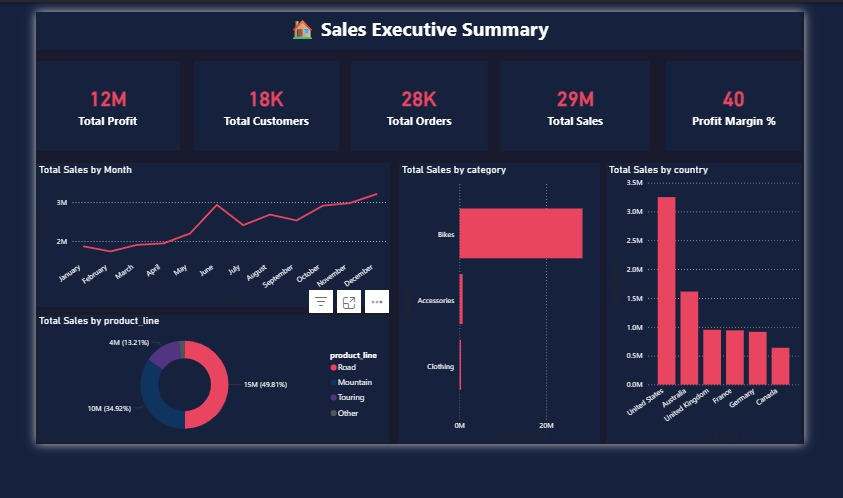

The dashboard page shown, as its layout file describes it:
{"tool":"powerbi","page":{"name":"Sales","canvas":[1280,720],"ordinal":0},"visuals":[{"type":"advanceCardE03760C5AB684758B56AA29F9E6C257B","fields":{"mainMeasure":["fact_sales.Total Sales"]},"box":[775,81.7,248.3,150],"z":0},{"type":"advanceCardE03760C5AB684758B56AA29F9E6C257B","fields":{"mainMeasure":["fact_sales.Total Orders"]},"box":[525,81.7,228.3,150],"z":1000},{"type":"advanceCardE03760C5AB684758B56AA29F9E6C257B","fields":{"mainMeasure":["fact_sales.Total Customers"]},"box":[263.3,81.7,241.7,150],"z":2000},{"type":"advanceCardE03760C5AB684758B56AA29F9E6C257B","fields":{"mainMeasure":["fact_sales.Total Profit"]},"box":[0,81.7,240,150],"z":3000},{"type":"lineChart","fields":{"Category":["fact_sales.order_date.Variation.Date Hierarchy.Month"],"Y":["fact_sales.Total Sales"]},"box":[0,251.7,590,240],"z":4000},{"type":"clusteredColumnChart","fields":{"Category":["customers.country"],"Y":["fact_sales.Total Sales"]},"box":[950,251.7,326.7,468.3],"z":5000},{"type":"clusteredBarChart","fields":{"Category":["products.category"],"Y":["fact_sales.Total Sales"]},"box":[605,251.7,335,468.3],"z":6000},{"type":"donutChart","fields":{"Category":["products.product_line"],"Y":["fact_sales.Total Sales"]},"box":[0,503.3,590,216.7],"z":7000},{"type":"advanceCardE03760C5AB684758B56AA29F9E6C257B","fields":{"mainMeasure":["fact_sales.Profit Margin %"]},"box":[1050,81.7,226.7,150],"z":8000},{"type":"textbox","box":[0,0,1276.7,63.3],"z":9000}]}

Visuals, with their boxes on the page's 1280x720 design canvas (x1, y1, x2, y2). These are canvas units, not pixel positions in the 843x498 screenshot, which may show the page scaled, cropped or inside an application window:
advanceCardE03760C5AB684758B56AA29F9E6C257B - fact_sales.Total Sales: bbox=[775, 82, 1023, 232]
advanceCardE03760C5AB684758B56AA29F9E6C257B - fact_sales.Total Orders: bbox=[525, 82, 753, 232]
advanceCardE03760C5AB684758B56AA29F9E6C257B - fact_sales.Total Customers: bbox=[263, 82, 505, 232]
advanceCardE03760C5AB684758B56AA29F9E6C257B - fact_sales.Total Profit: bbox=[0, 82, 240, 232]
lineChart - fact_sales.order_date.Variation.Date Hierarchy.Month x fact_sales.Total Sales: bbox=[0, 252, 590, 492]
clusteredColumnChart - customers.country x fact_sales.Total Sales: bbox=[950, 252, 1277, 720]
clusteredBarChart - products.category x fact_sales.Total Sales: bbox=[605, 252, 940, 720]
donutChart - products.product_line x fact_sales.Total Sales: bbox=[0, 503, 590, 720]
advanceCardE03760C5AB684758B56AA29F9E6C257B - fact_sales.Profit Margin %: bbox=[1050, 82, 1277, 232]
textbox: bbox=[0, 0, 1277, 63]
